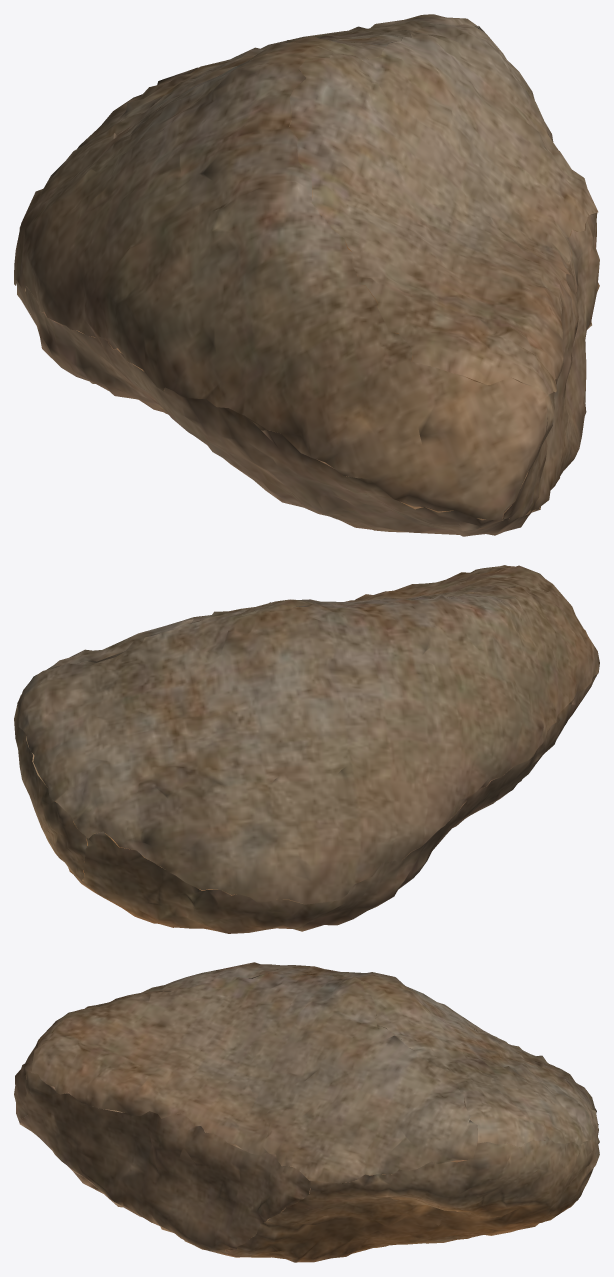
The model's file is boulder_1.glb.
3 views of the same model, one above another, from view 1: azimuth 30°, elevation 25°; view 2: azimuth 150°, elevation 25°; view 3: azimuth 270°, elevation 25° (orthographic). The views are drawn at different scales.
Parts seen in each view (by area): view 1: SCENERY_boulder_1; view 2: SCENERY_boulder_1; view 3: SCENERY_boulder_1.
Part boxes in pixels (left/top/right/bottom): SCENERY_boulder_1: left=14, top=14, right=599, bottom=536; SCENERY_boulder_1: left=14, top=565, right=599, bottom=933; SCENERY_boulder_1: left=14, top=962, right=599, bottom=1262.
Size of the model in its own units: 0.7915 by 0.5479 by 1.2.
Materials: 1 (1 with a texture image).
